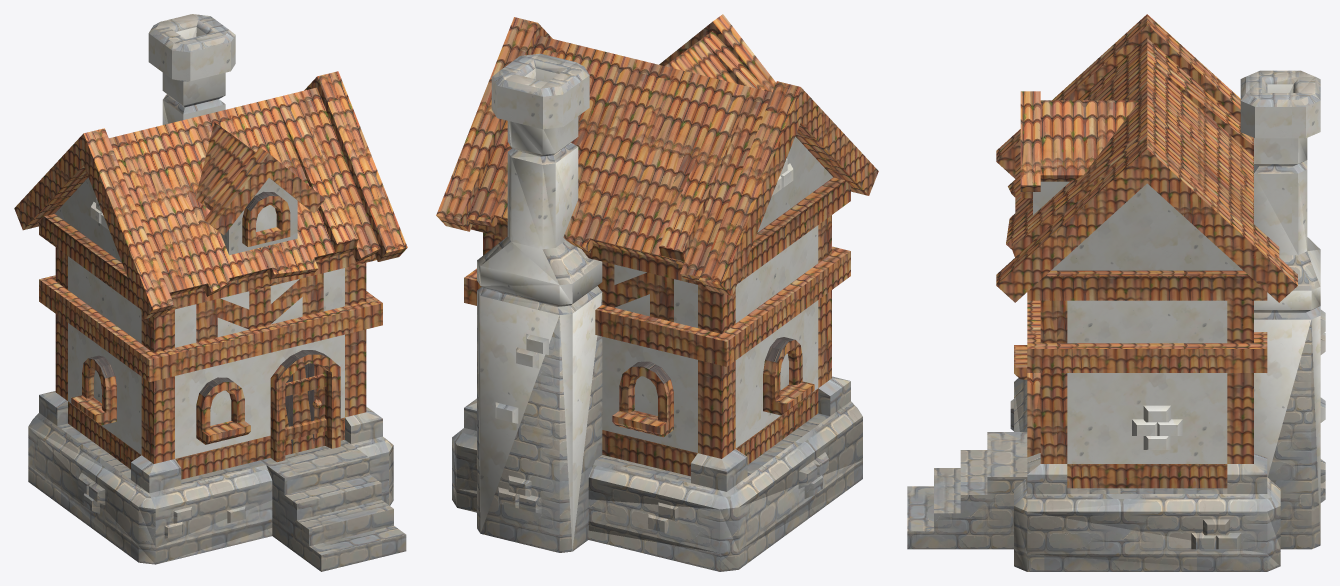
The model's file is building_home_B_red.gltf.
3 views of the same model, side by side, from view 1: azimuth 30°, elevation 25°; view 2: azimuth 150°, elevation 25°; view 3: azimuth 270°, elevation 25° (orthographic). The views are drawn at different scales.
Parts seen in each view (by area): view 1: building_home_B_red; view 2: building_home_B_red; view 3: building_home_B_red.
Part boxes in pixels (x1=…): building_home_B_red: x1=14, y1=14, x2=407, y2=571; building_home_B_red: x1=436, y1=14, x2=878, y2=571; building_home_B_red: x1=907, y1=14, x2=1325, y2=571.
Size of the model in its own units: 0.8749 by 1.28 by 1.1.
4 materials, 4 textured.
